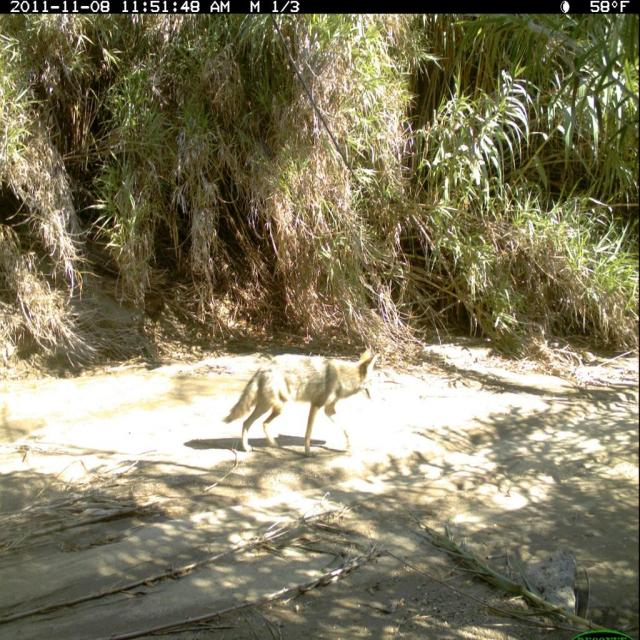coyote: (222, 340, 386, 462)
